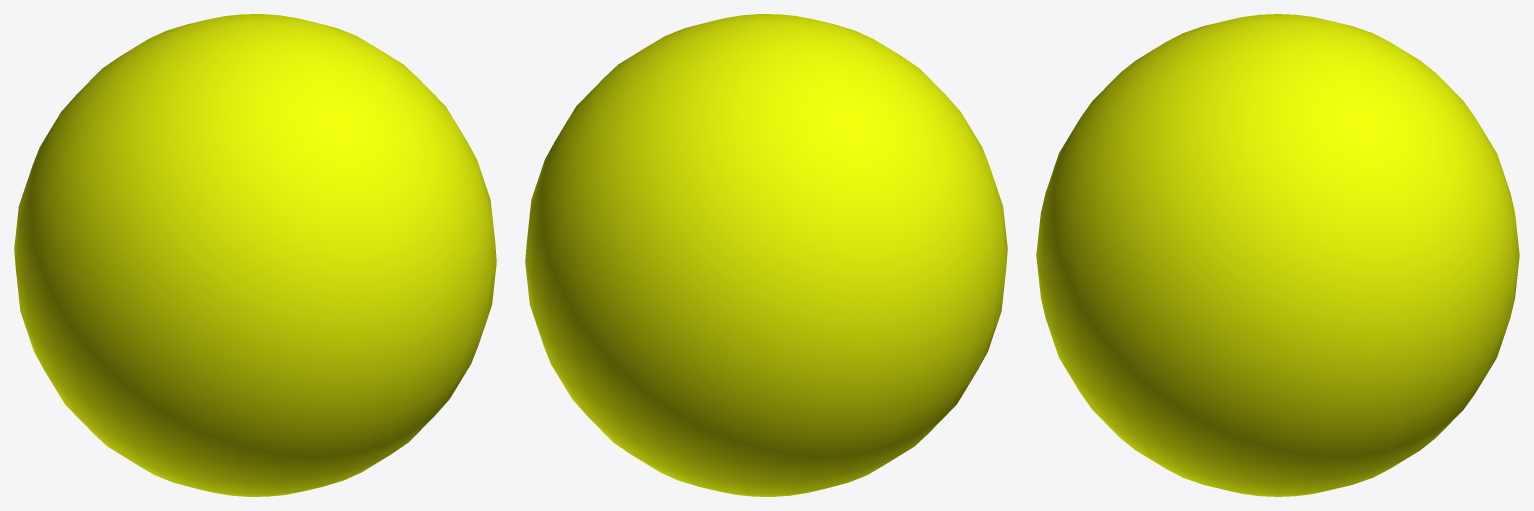
Rendered from 03_MarbleBall.fbx.
3 renders of one model, left to right at view 1: azimuth 30°, elevation 25°; view 2: azimuth 150°, elevation 25°; view 3: azimuth 270°, elevation 25°, orthographic.
Visible parts, largest first — view 1: 03_MarbleBall; view 2: 03_MarbleBall; view 3: 03_MarbleBall.
Part boxes in pixels (left/top/right/bottom): 03_MarbleBall: left=14, top=14, right=496, bottom=496; 03_MarbleBall: left=525, top=14, right=1007, bottom=496; 03_MarbleBall: left=1036, top=14, right=1519, bottom=496.
Size of the model in its own units: 20 by 20 by 20.
